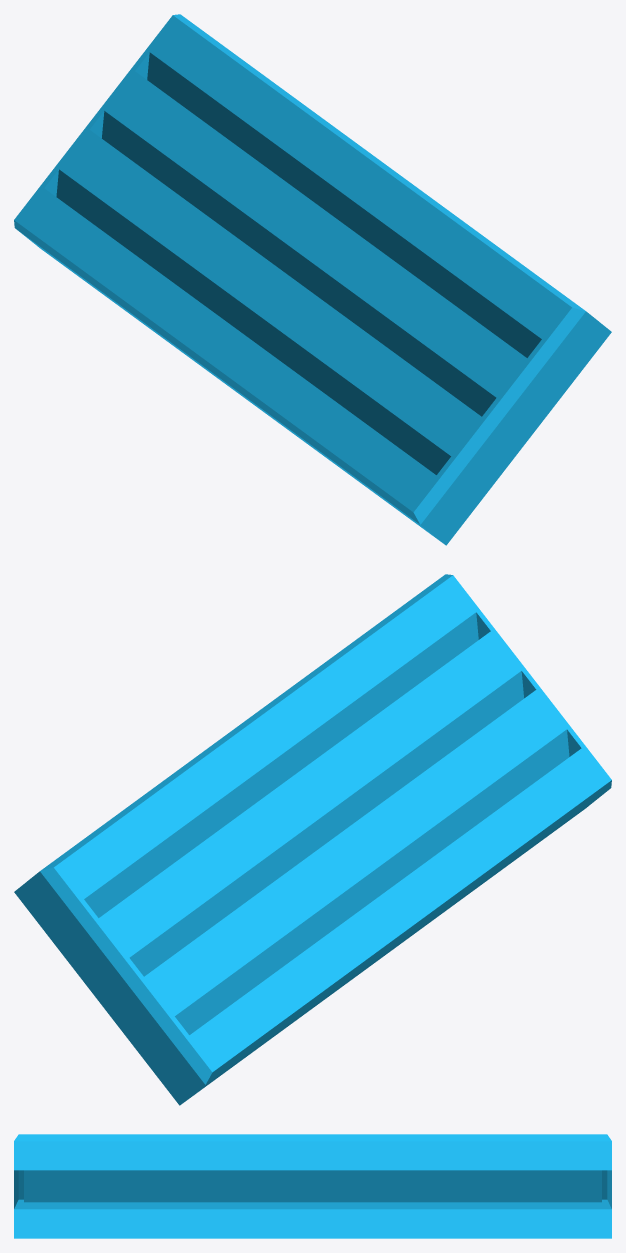
Rendered from air ventilation.fbx.
3 renders of one model, top to bottom at view 1: azimuth 30°, elevation 25°; view 2: azimuth 150°, elevation 25°; view 3: azimuth 270°, elevation 25°, orthographic. The views are drawn at different scales.
Parts seen in each view (by area): view 1: air ventilation; view 2: air ventilation; view 3: air ventilation.
Boxes of the visible parts, box(x1,y1,x2,y2) form: air ventilation: box(14, 14, 611, 545); air ventilation: box(14, 574, 611, 1105); air ventilation: box(14, 1134, 611, 1238).
Bounding box in the file's own units: 41.69 × 41.69 × 150.
